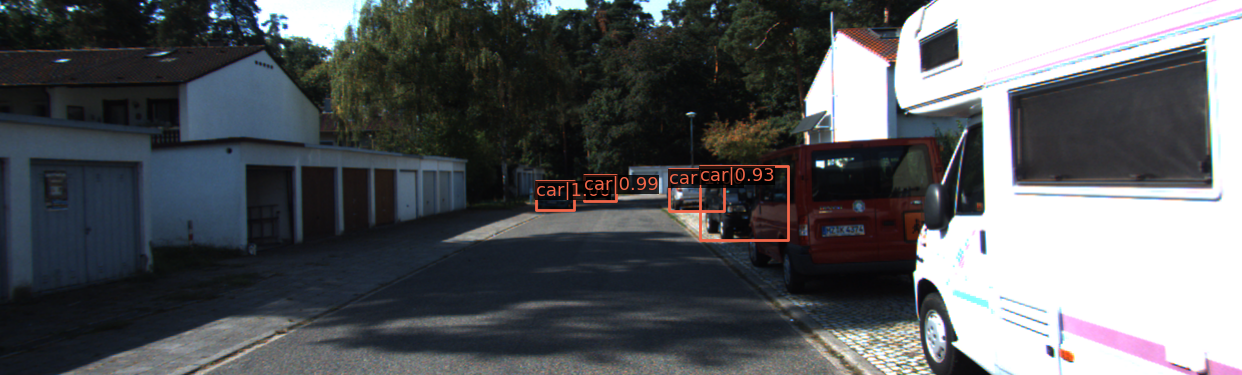car: (703, 166, 794, 243), (670, 174, 714, 212), (539, 181, 574, 210), (584, 176, 617, 200)
